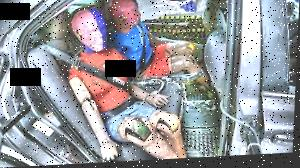seatbelt: (39, 44, 140, 120), (135, 17, 157, 76)
